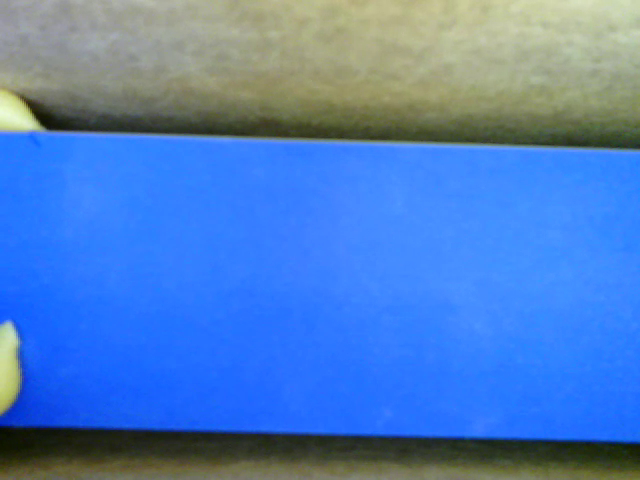shell: (1, 315, 24, 418), (1, 87, 46, 133)
